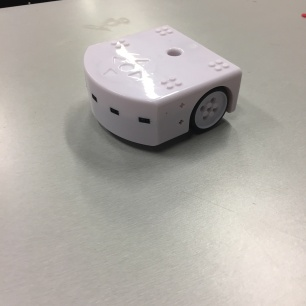thymio: (81, 21, 246, 154)
